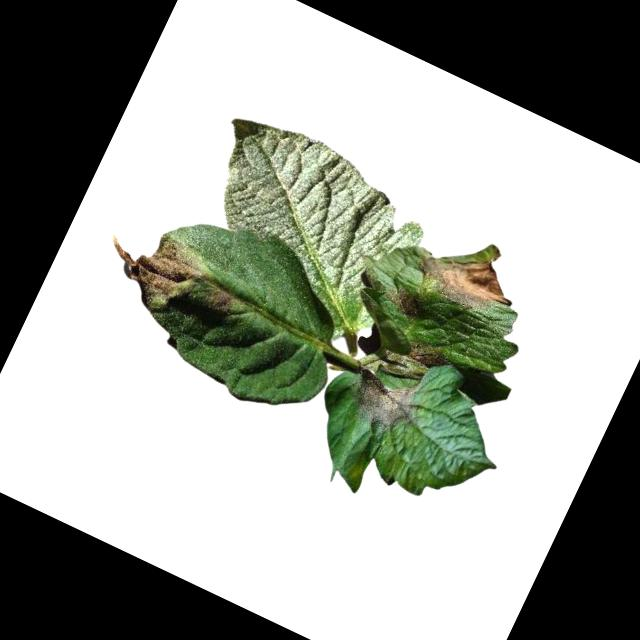Late_blight: (91, 209, 220, 327), (407, 231, 524, 326), (339, 359, 423, 441), (402, 334, 454, 374), (383, 283, 427, 322), (204, 284, 237, 316)
healthy: (166, 104, 440, 356)
